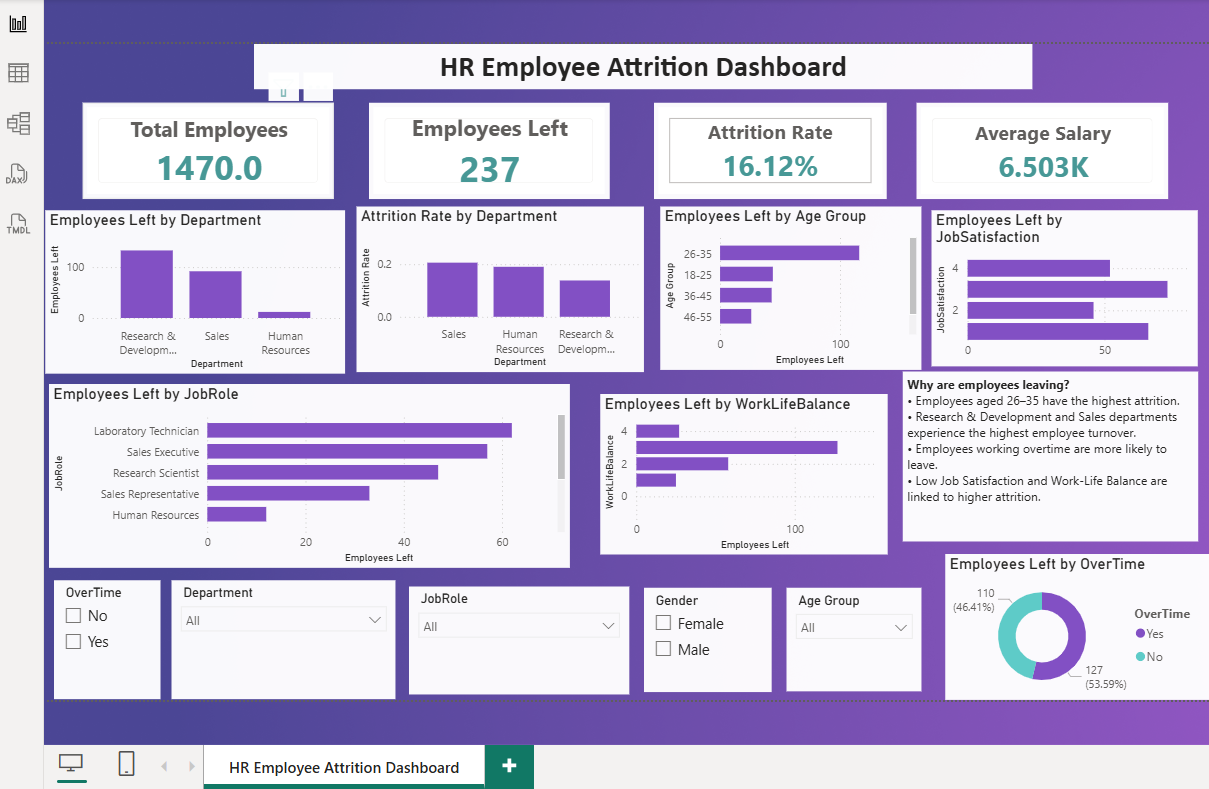

The dashboard page shown, as its layout file describes it:
{"tool":"powerbi","page":{"name":"HR Employee Attrition Dashboard","canvas":[1280,720],"ordinal":0},"visuals":[{"type":"clusteredBarChart","fields":{"Category":["WA_Fn-UseC_-HR-Employee-Attriti.Age Group"],"Y":["WA_Fn-UseC_-HR-Employee-Attriti.Employees Left"]},"box":[676.4,177.8,286.1,179.2],"z":0},{"type":"cardVisual","fields":{"Data":["WA_Fn-UseC_-HR-Employee-Attriti.Total Employees"]},"box":[43.1,63.9,275,105.6],"z":1000},{"type":"cardVisual","fields":{"Data":["WA_Fn-UseC_-HR-Employee-Attriti.Attrition Rate"]},"box":[669.4,63.9,255.6,105.6],"z":2000},{"type":"cardVisual","fields":{"Data":["WA_Fn-UseC_-HR-Employee-Attriti.Average Salary"]},"box":[956.9,63.9,276.4,105.6],"z":3000},{"type":"clusteredColumnChart","fields":{"Category":["WA_Fn-UseC_-HR-Employee-Attriti.Department"],"Y":["WA_Fn-UseC_-HR-Employee-Attriti.Employees Left"]},"box":[1.4,181.9,329.2,179.2],"z":4000},{"type":"clusteredBarChart","fields":{"Category":["WA_Fn-UseC_-HR-Employee-Attriti.JobRole"],"Y":["WA_Fn-UseC_-HR-Employee-Attriti.Employees Left"]},"box":[5.6,372.2,570.8,201.4],"z":5000},{"type":"clusteredBarChart","fields":{"Category":["WA_Fn-UseC_-HR-Employee-Attriti.WorkLifeBalance"],"Y":["WA_Fn-UseC_-HR-Employee-Attriti.Employees Left"]},"box":[609.7,383.3,315.3,176.4],"z":6000},{"type":"clusteredBarChart","fields":{"Category":["WA_Fn-UseC_-HR-Employee-Attriti.JobSatisfaction"],"Y":["WA_Fn-UseC_-HR-Employee-Attriti.Employees Left"]},"box":[973.2,182.3,292,171.3],"z":7000},{"type":"cardVisual","fields":{"Data":["WA_Fn-UseC_-HR-Employee-Attriti.Employees Left"]},"box":[356.9,63.9,263.9,105.6],"z":8000},{"type":"donutChart","fields":{"Category":["WA_Fn-UseC_-HR-Employee-Attriti.OverTime"],"Y":["WA_Fn-UseC_-HR-Employee-Attriti.Employees Left"]},"box":[988.9,559.7,291.7,159.7],"z":9000},{"type":"slicer","fields":{"Values":["WA_Fn-UseC_-HR-Employee-Attriti.Department"]},"box":[140,588.6,245.7,130],"z":10000},{"type":"slicer","fields":{"Values":["WA_Fn-UseC_-HR-Employee-Attriti.JobRole"]},"box":[400,594.3,241.4,118.6],"z":11000},{"type":"slicer","fields":{"Values":["WA_Fn-UseC_-HR-Employee-Attriti.Gender"]},"box":[658.6,595.7,140,114.3],"z":12000},{"type":"slicer","fields":{"Values":["WA_Fn-UseC_-HR-Employee-Attriti.Age Group"]},"box":[814.2,596.3,148,113.8],"z":13000},{"type":"slicer","fields":{"Values":["WA_Fn-UseC_-HR-Employee-Attriti.OverTime"]},"box":[11.4,588.6,117.1,130],"z":14000},{"type":"textbox","box":[941.7,359.7,323.6,186.1],"z":15000},{"type":"textbox","box":[318.1,0,766.7,50],"z":16000},{"type":"clusteredColumnChart","fields":{"Category":["WA_Fn-UseC_-HR-Employee-Attriti.Department"],"Y":["WA_Fn-UseC_-HR-Employee-Attriti.Attrition Rate"]},"box":[343.1,177.8,315.3,181.9],"z":17000}]}

Visuals, with their boxes in screenshot pixels (x1, y1, x2, y2):
clusteredBarChart - WA_Fn-UseC_-HR-Employee-Attriti.Age Group x WA_Fn-UseC_-HR-Employee-Attriti.Employees Left: BBox(668, 203, 934, 370)
cardVisual - WA_Fn-UseC_-HR-Employee-Attriti.Total Employees: BBox(78, 97, 334, 196)
cardVisual - WA_Fn-UseC_-HR-Employee-Attriti.Attrition Rate: BBox(661, 97, 899, 196)
cardVisual - WA_Fn-UseC_-HR-Employee-Attriti.Average Salary: BBox(929, 97, 1187, 196)
clusteredColumnChart - WA_Fn-UseC_-HR-Employee-Attriti.Department x WA_Fn-UseC_-HR-Employee-Attriti.Employees Left: BBox(39, 207, 346, 374)
clusteredBarChart - WA_Fn-UseC_-HR-Employee-Attriti.JobRole x WA_Fn-UseC_-HR-Employee-Attriti.Employees Left: BBox(43, 384, 575, 572)
clusteredBarChart - WA_Fn-UseC_-HR-Employee-Attriti.WorkLifeBalance x WA_Fn-UseC_-HR-Employee-Attriti.Employees Left: BBox(606, 395, 899, 559)
clusteredBarChart - WA_Fn-UseC_-HR-Employee-Attriti.JobSatisfaction x WA_Fn-UseC_-HR-Employee-Attriti.Employees Left: BBox(944, 208, 1208, 367)
cardVisual - WA_Fn-UseC_-HR-Employee-Attriti.Employees Left: BBox(370, 97, 616, 196)
donutChart - WA_Fn-UseC_-HR-Employee-Attriti.OverTime x WA_Fn-UseC_-HR-Employee-Attriti.Employees Left: BBox(959, 559, 1208, 708)
slicer - WA_Fn-UseC_-HR-Employee-Attriti.Department: BBox(168, 586, 397, 707)
slicer - WA_Fn-UseC_-HR-Employee-Attriti.JobRole: BBox(410, 591, 635, 702)
slicer - WA_Fn-UseC_-HR-Employee-Attriti.Gender: BBox(651, 593, 782, 699)
slicer - WA_Fn-UseC_-HR-Employee-Attriti.Age Group: BBox(796, 593, 934, 699)
slicer - WA_Fn-UseC_-HR-Employee-Attriti.OverTime: BBox(48, 586, 157, 707)
textbox: BBox(915, 373, 1208, 546)
textbox: BBox(334, 38, 1048, 84)
clusteredColumnChart - WA_Fn-UseC_-HR-Employee-Attriti.Department x WA_Fn-UseC_-HR-Employee-Attriti.Attrition Rate: BBox(357, 203, 651, 373)
